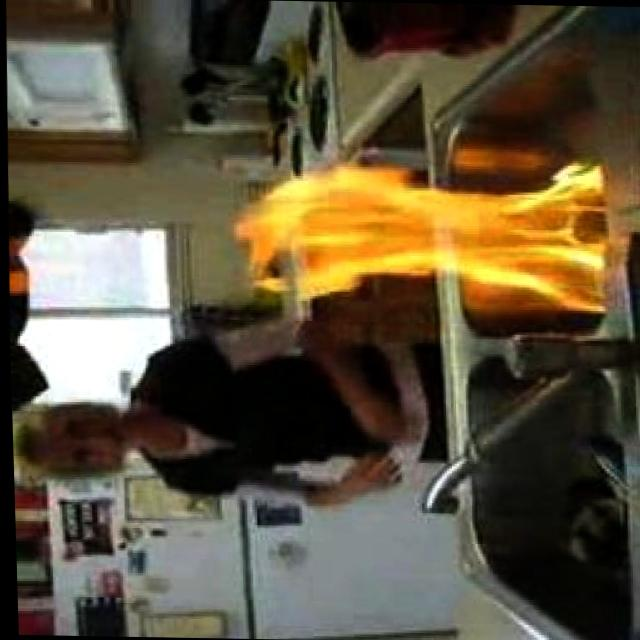Fire: (231, 158, 612, 318)
